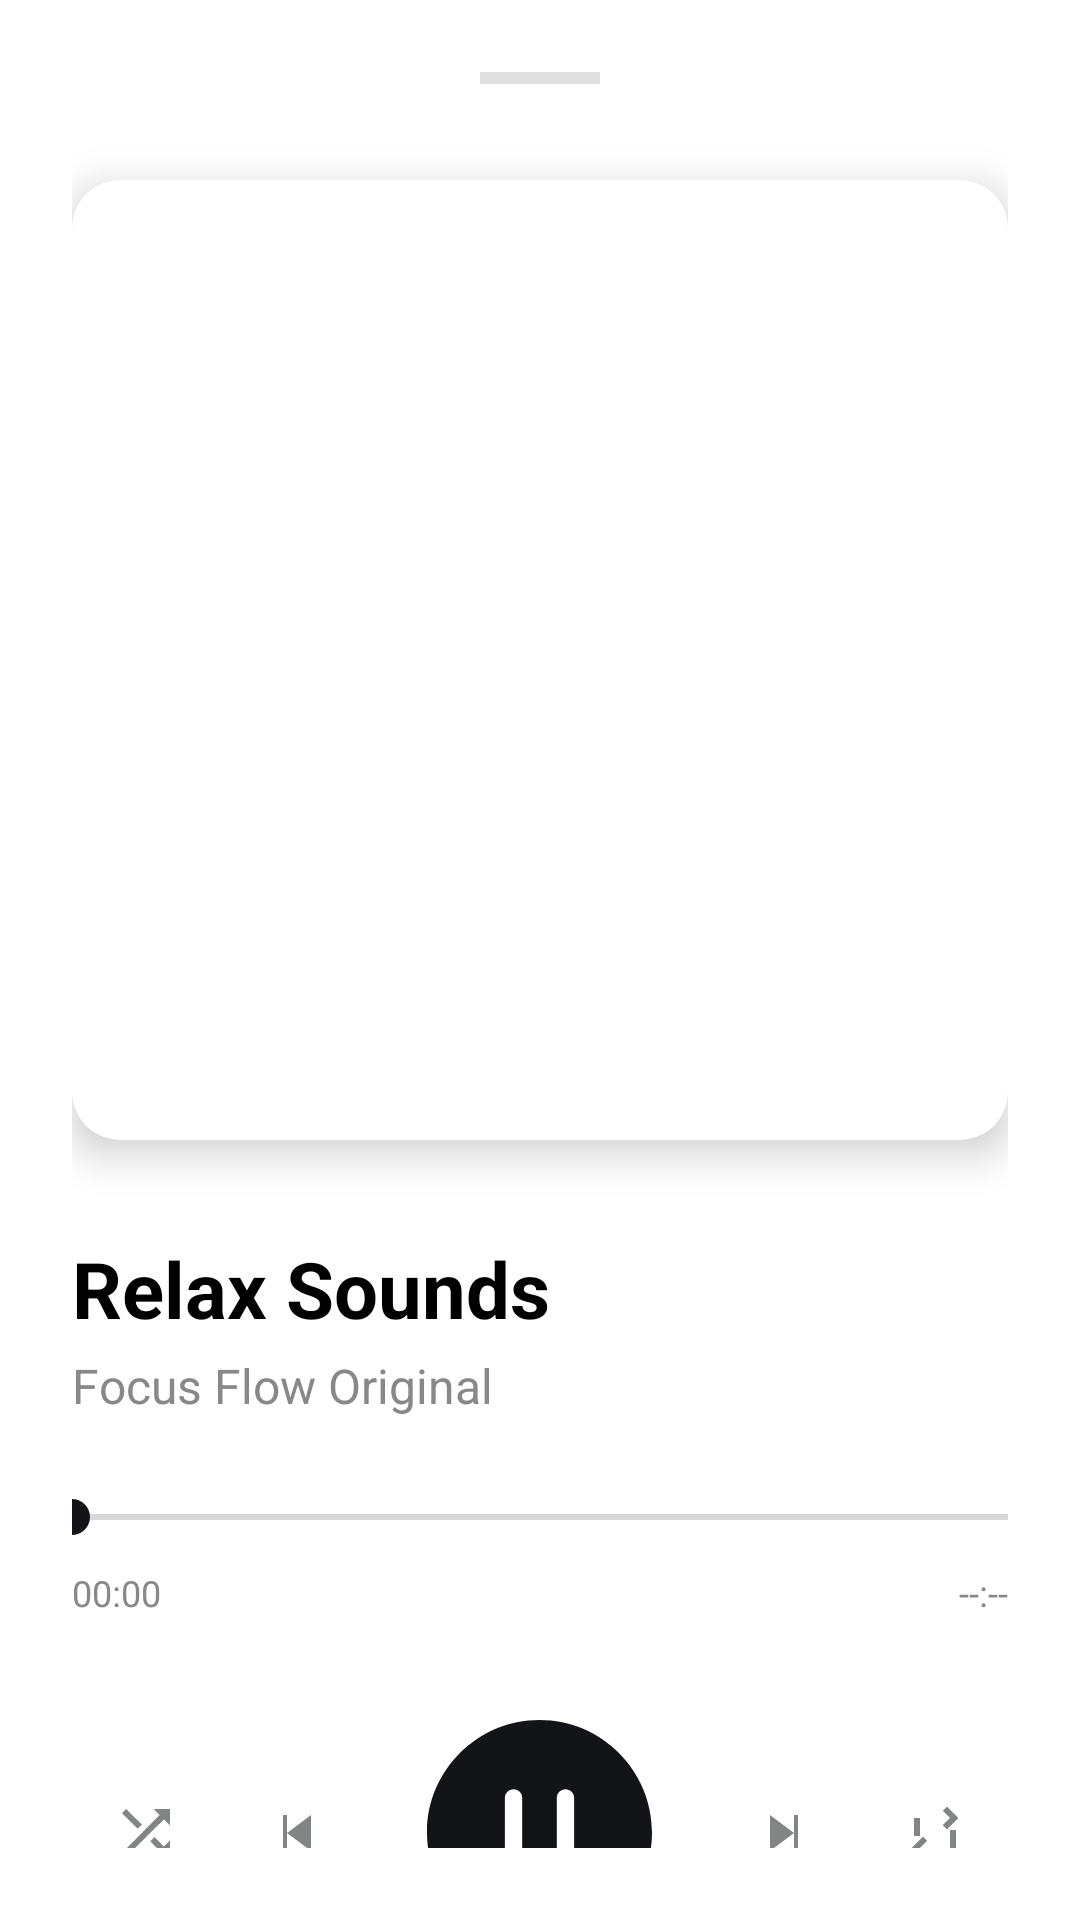

Named icons in this screenshot (1080px x 1920px) and their centers, point (x, y):
repeat custom: point (935, 1827)
shuffle custom: point (146, 1828)
skip next custom: point (784, 1831)
skip prev custom: point (297, 1831)
